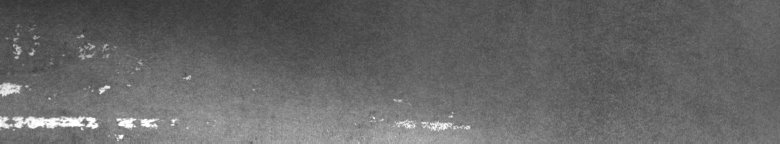kb: (4, 24, 191, 136)
